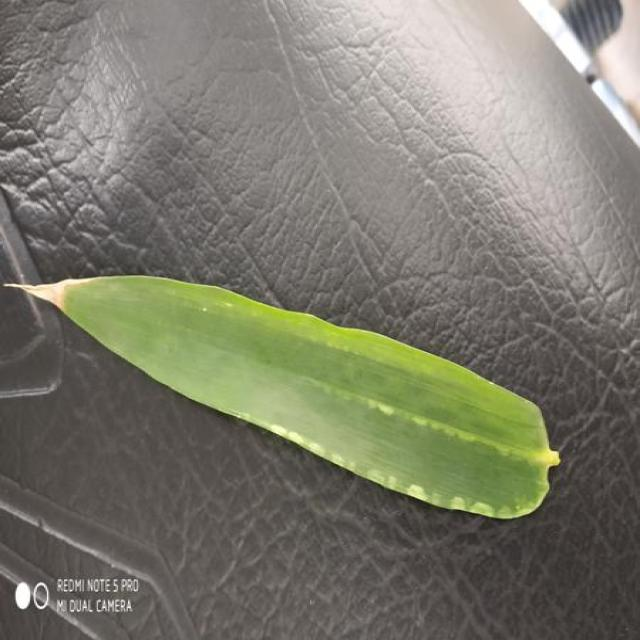Bamboo: (22, 276, 558, 518)
